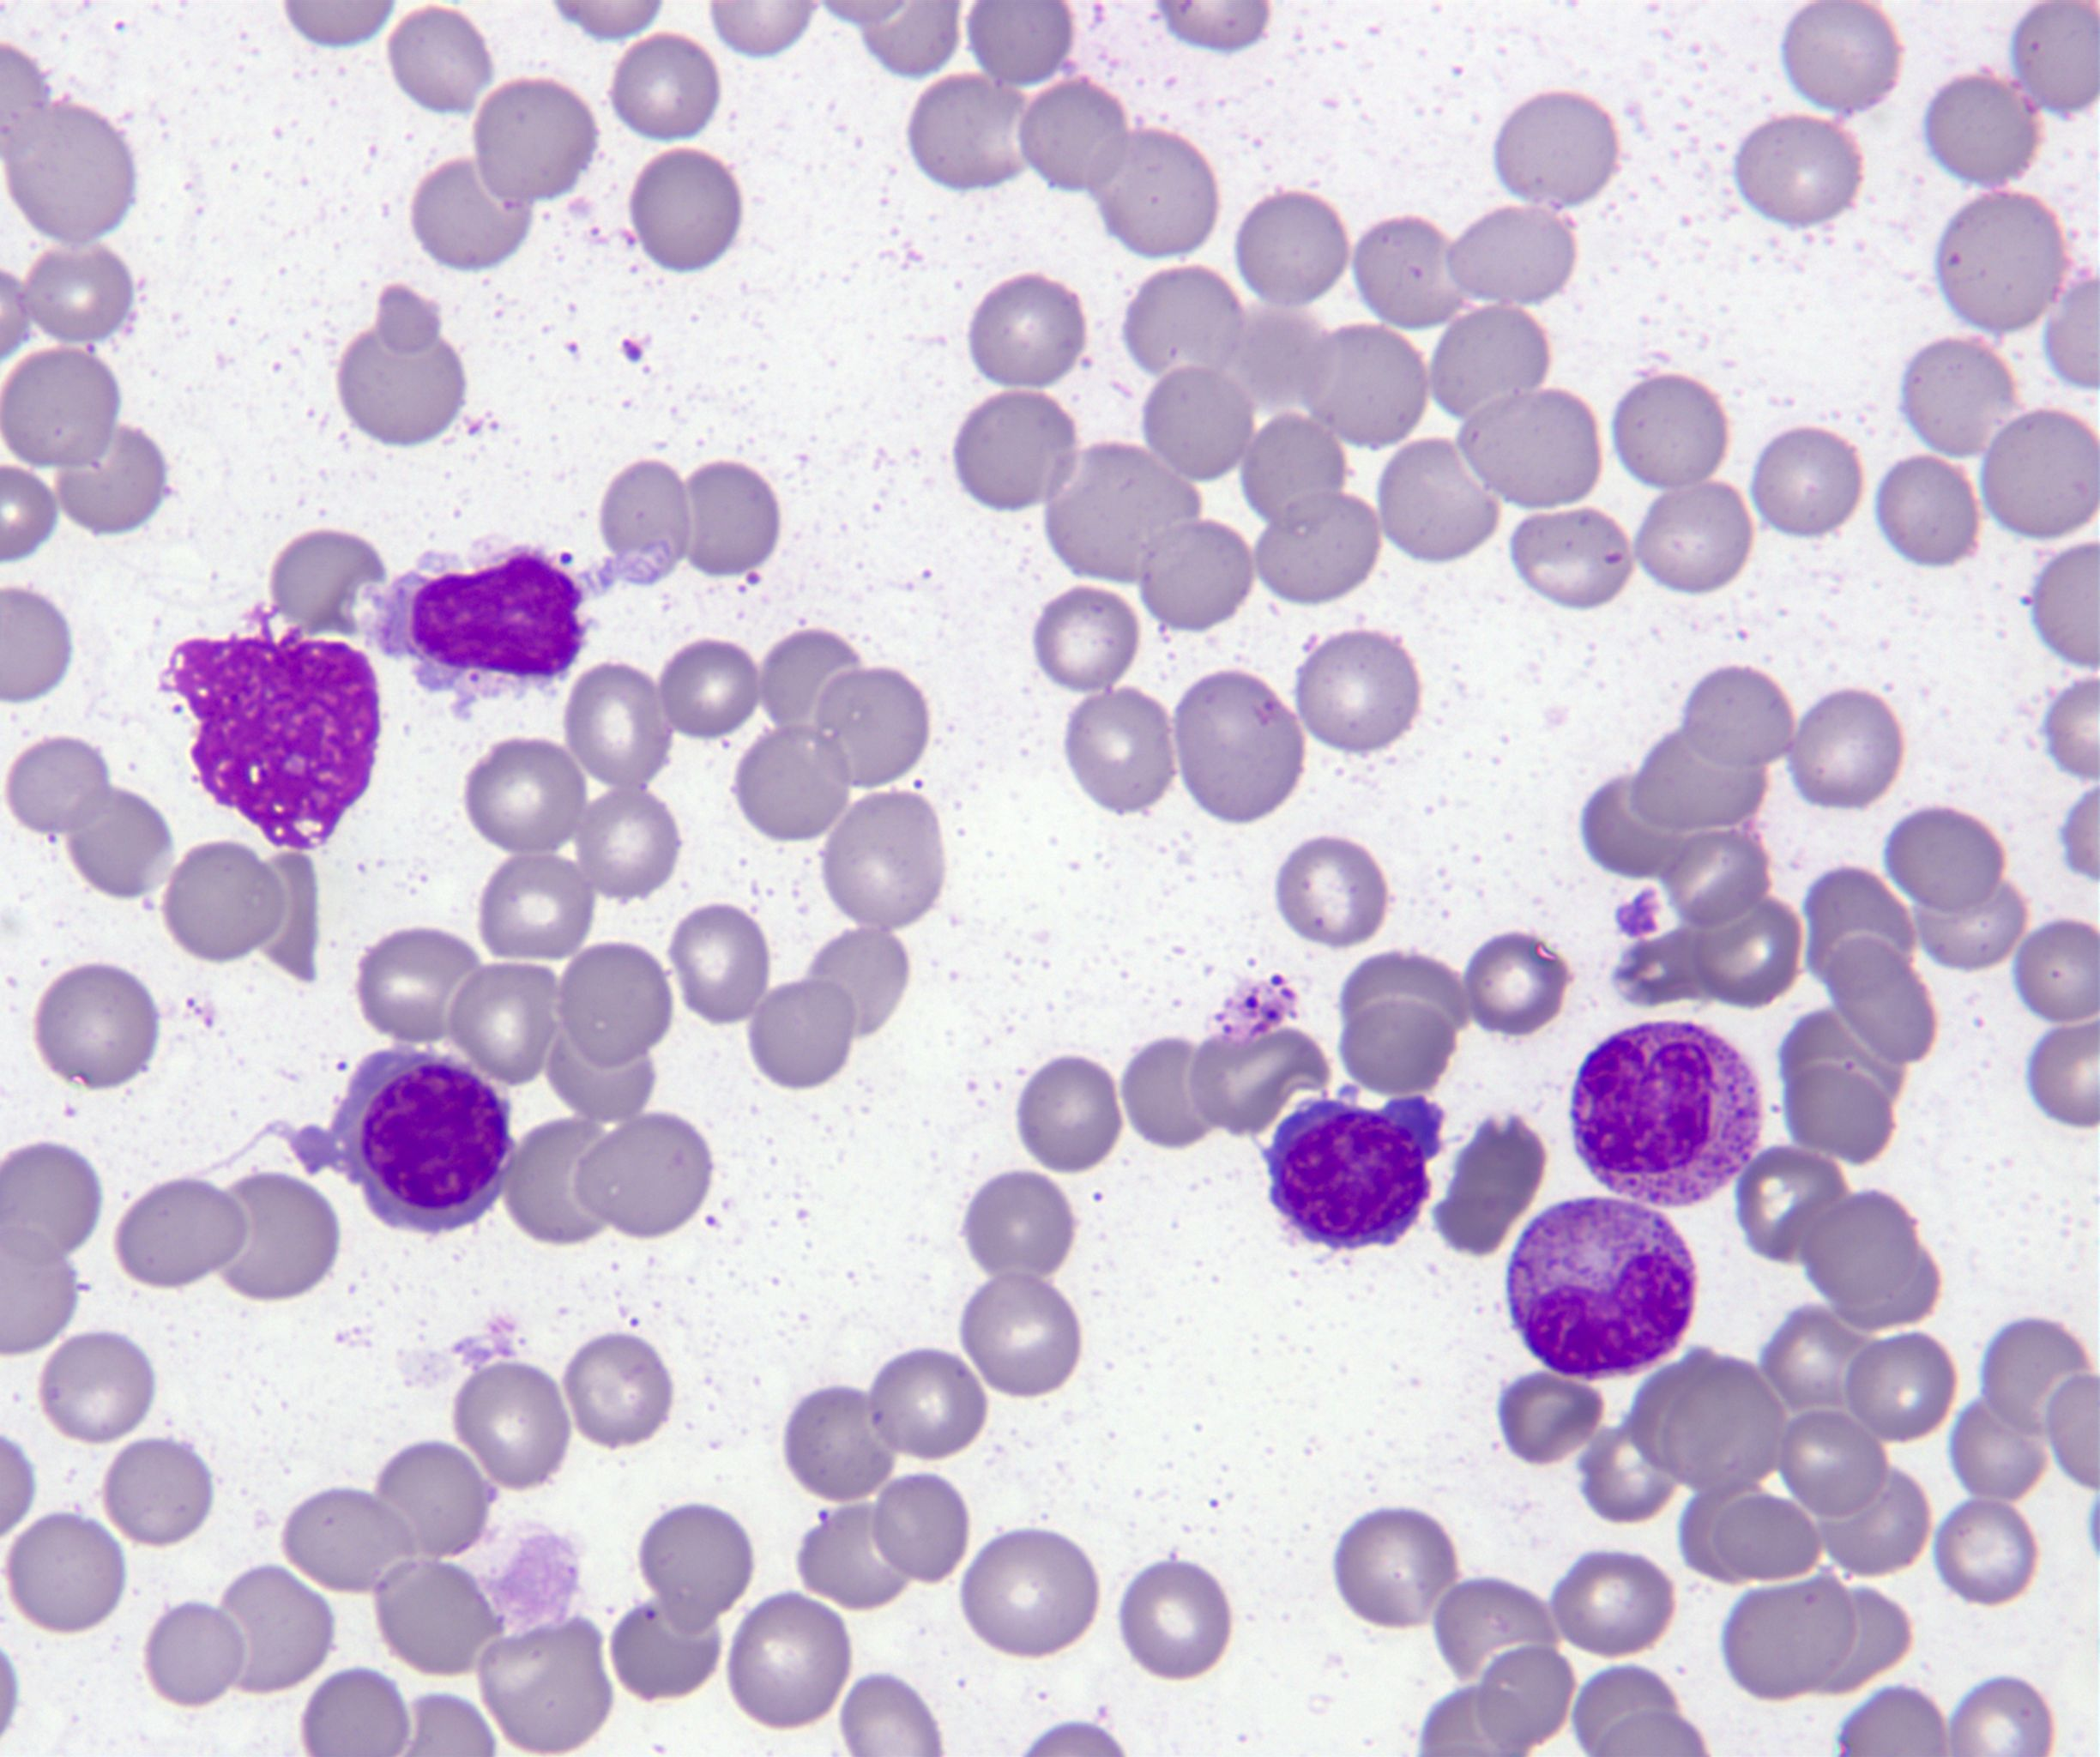23: (288, 1045, 513, 1234), (1258, 1096, 1442, 1249)
32: (366, 550, 584, 719)
4: (1570, 1022, 1760, 1206), (1507, 1195, 1692, 1377)
x: (160, 637, 380, 848)
